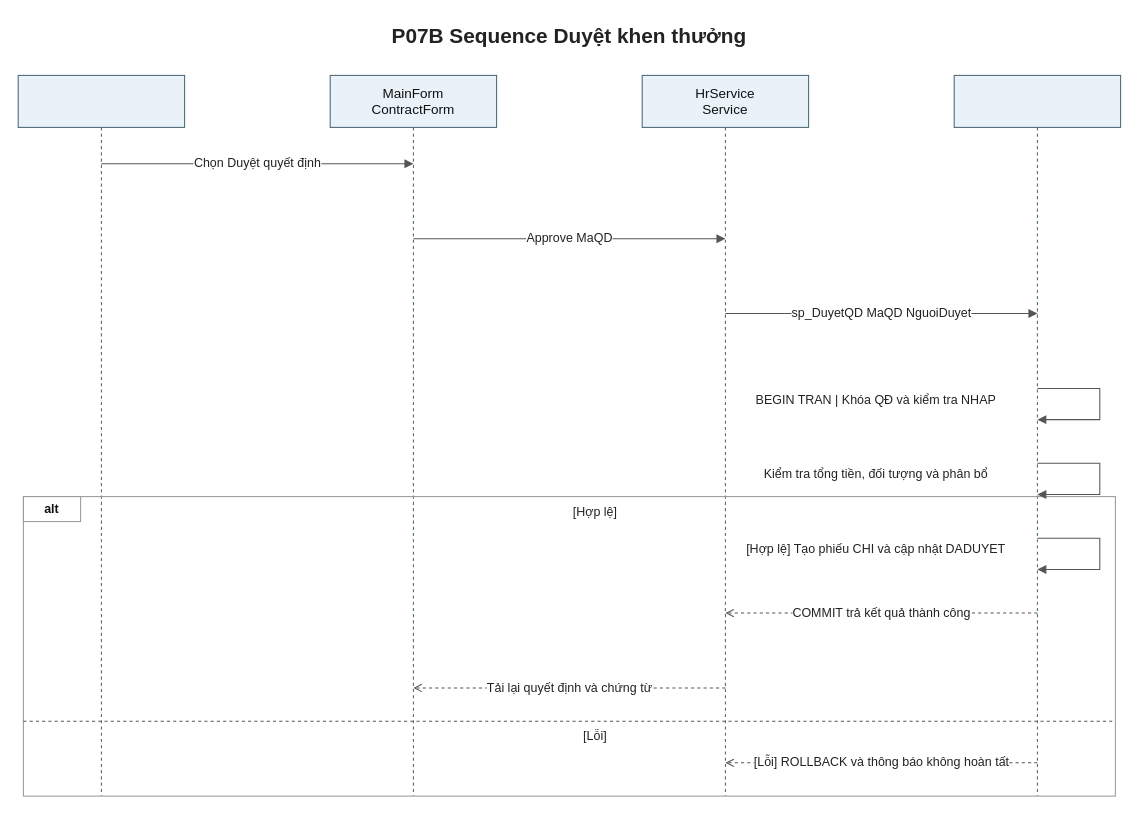
The diagram is 1139 pixels wide and 814 high, and some of its shapes have lost their labels. The shapes that lost their labels are listed below. From the top down, each one's box as (x1, y1, x2, y2) in pixels, then its label:
(17, 74, 185, 796): Giám đốc
(953, 74, 1121, 796): Data và SQL Lưu trữ
